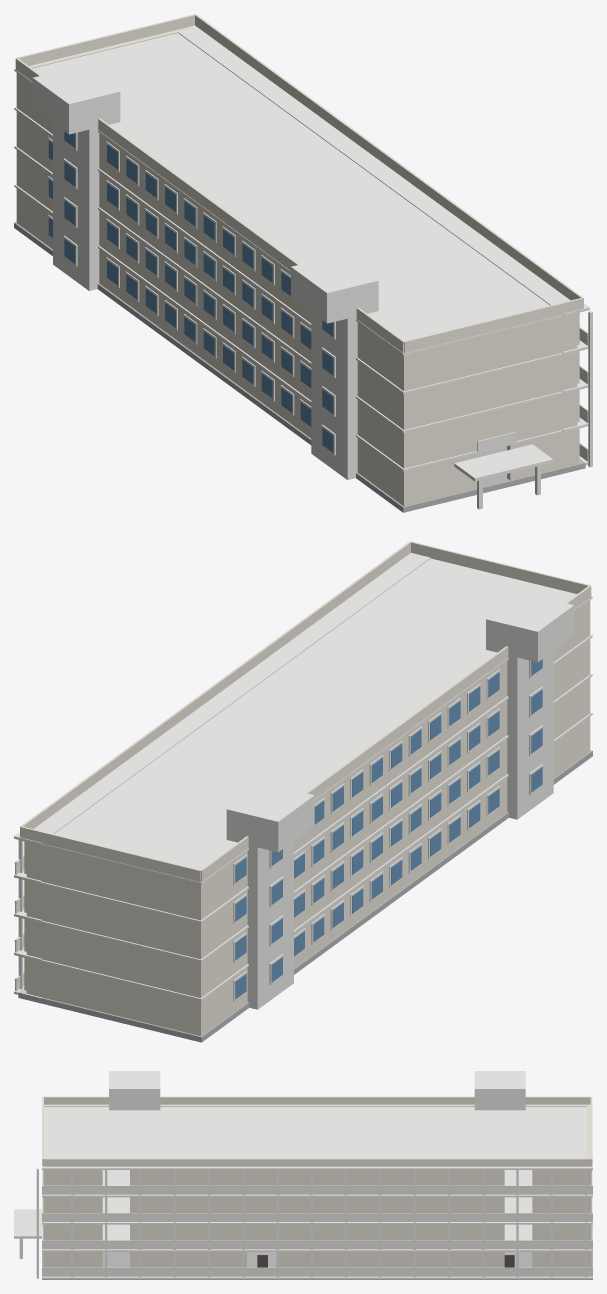
File: teachA.glb
The picture shows the model from 3 angles, top to bottom: view 1: azimuth 30°, elevation 25°; view 2: azimuth 150°, elevation 25°; view 3: azimuth 270°, elevation 25°; orthographic projection. The views are drawn at different scales.
Visible parts, largest first — view 1: p119, p1, p5, p240, p120, p130, p328, p121, p131, p115, p327, p326 (+8 smaller); view 2: p119, p1, p2, p240, p120, p130, p328, p121, p131, p327, p115, p325 (+4 smaller); view 3: p119, p11, p14, p17, p241, p247, p328, p243, p245, p327, p7, p240 (+26 smaller).
Boxes of the visible parts, x1,y1,x2,y2 form: p119: [14, 33, 582, 355]; p1: [16, 73, 409, 506]; p5: [409, 313, 577, 466]; p240: [176, 25, 589, 316]; p120: [53, 123, 99, 290]; p130: [311, 312, 357, 479]; p328: [195, 14, 583, 307]; p121: [32, 65, 120, 134]; p131: [291, 254, 378, 323]; p115: [14, 222, 585, 512]; p327: [15, 58, 403, 352]; p326: [404, 297, 583, 353]; p119: [19, 558, 592, 884]; p1: [195, 600, 590, 1035]; p2: [26, 842, 195, 1034]; p240: [14, 553, 430, 844]; p120: [247, 841, 293, 1009]; p130: [507, 651, 553, 819]; p328: [20, 541, 410, 836]; p121: [226, 782, 314, 852]; p131: [486, 592, 574, 662]; p327: [201, 585, 591, 881]; p115: [18, 750, 592, 1042]; p325: [20, 826, 200, 882]; p119: [42, 1105, 592, 1158]; p11: [130, 1224, 504, 1240]; p14: [130, 1197, 504, 1212]; p17: [130, 1170, 504, 1185]; p241: [42, 1267, 592, 1276]; p247: [42, 1185, 592, 1194]; p328: [43, 1158, 591, 1166]; p243: [42, 1240, 592, 1249]; p245: [42, 1213, 592, 1221]; p327: [43, 1096, 591, 1104]; p7: [279, 1252, 504, 1267]; p240: [42, 1159, 592, 1169].
Size of the model in its own units: 19.27 by 16.4 by 63.35.
